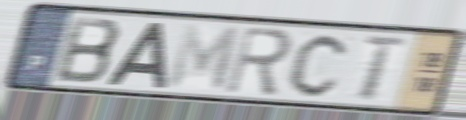A: (104, 20, 168, 90)
B: (52, 14, 124, 86)
C: (286, 31, 353, 99)
M: (164, 22, 243, 94)
R: (223, 24, 295, 97)
T: (358, 34, 409, 103)
